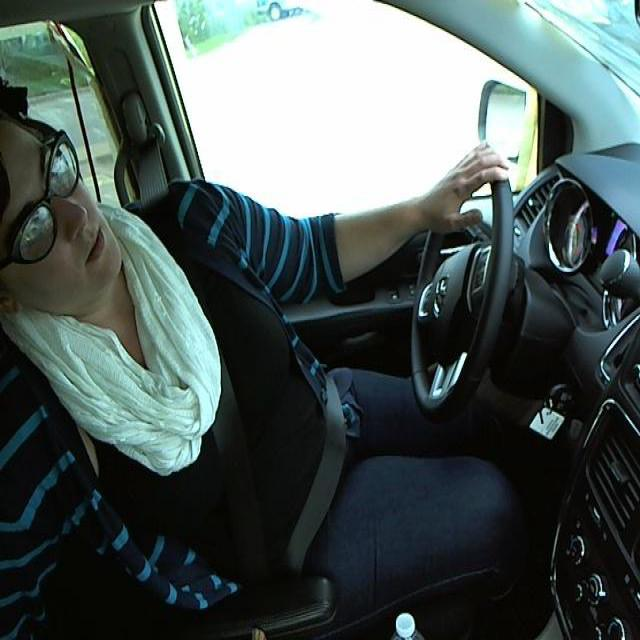seatbelt: (133, 204, 346, 560)
